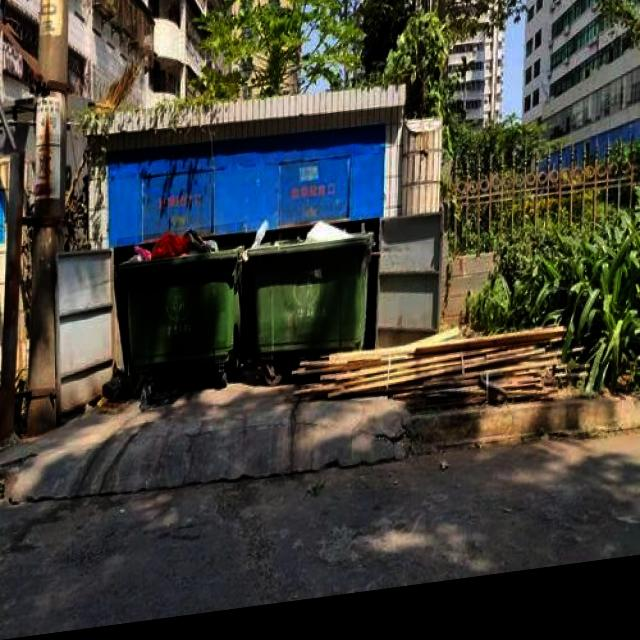overflow: (250, 217, 372, 367), (117, 229, 243, 370)
